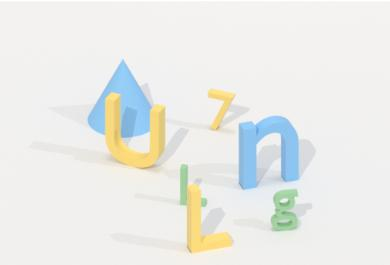0-TamGiac: (83, 57, 163, 139)
7: (202, 84, 237, 132)
L: (185, 181, 234, 254), (178, 161, 211, 212)
U: (103, 91, 170, 172)
g: (268, 186, 302, 234)
n: (234, 112, 306, 193)
